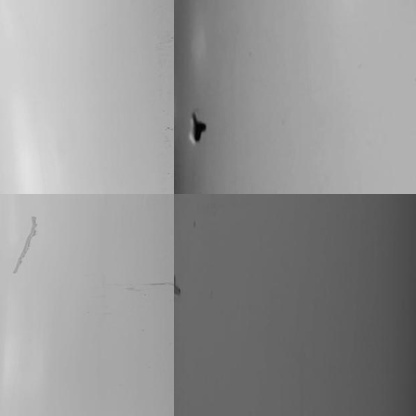kongdong: (185, 113, 210, 148)
sunshang: (15, 214, 43, 285)
